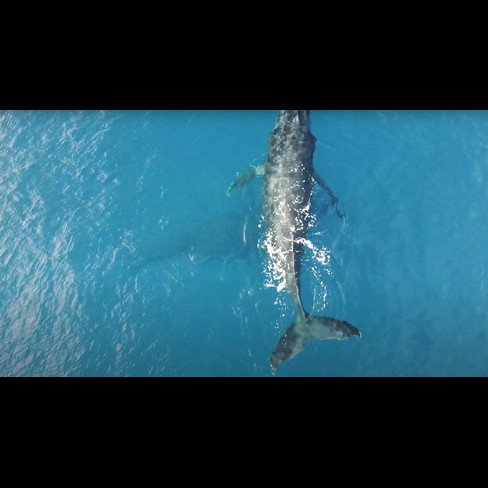hump: (224, 109, 368, 374)
